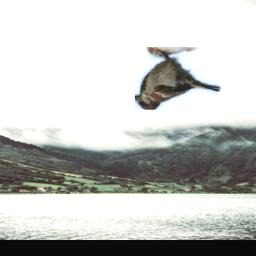Sparrow: (134, 48, 220, 111)
